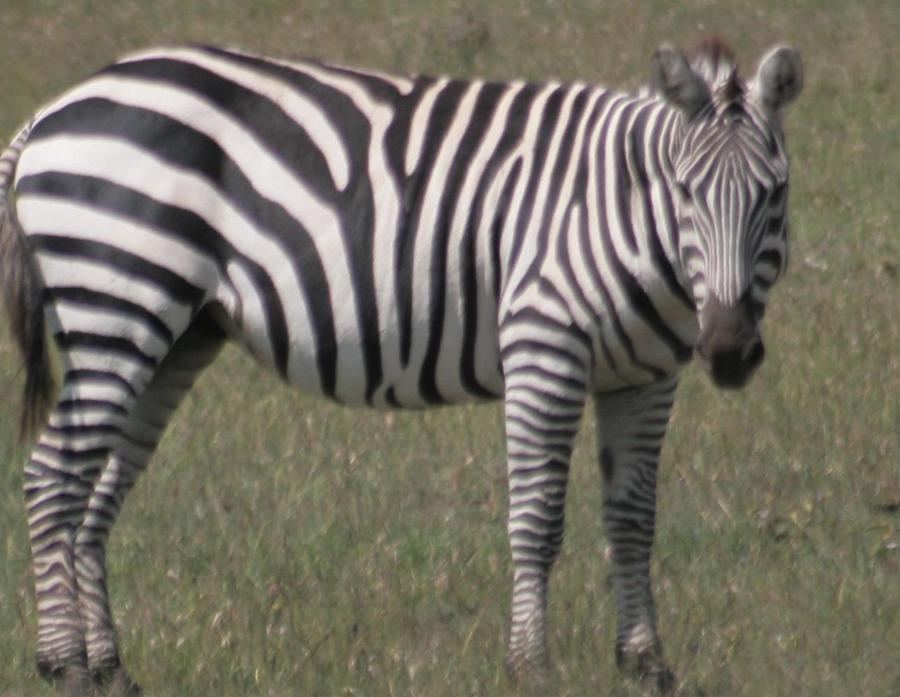zebra_plains: (19, 26, 729, 391)
